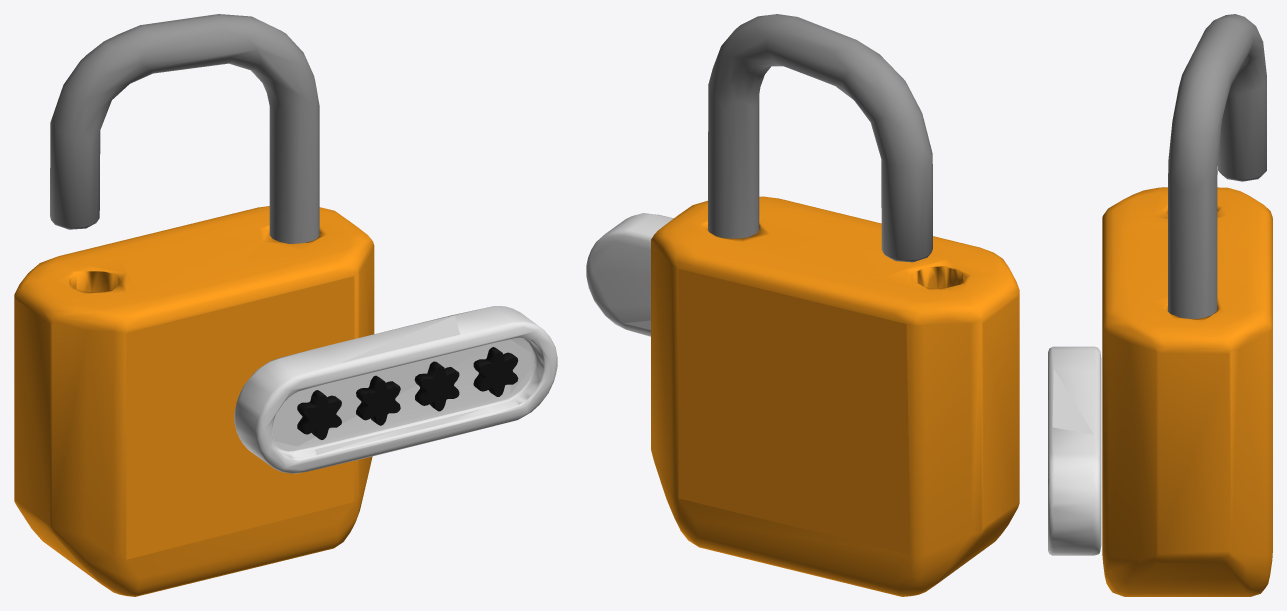
Rendered from Wallet.fbx.
3 views of the same model, side by side, from view 1: azimuth 30°, elevation 25°; view 2: azimuth 150°, elevation 25°; view 3: azimuth 270°, elevation 25° (orthographic). The views are drawn at different scales.
Parts seen in each view (by area): view 1: Cube.048; view 2: Cube.048; view 3: Cube.048.
Boxes of the visible parts, x1,y1,x2,y2 form: Cube.048: (14,14,557,596); Cube.048: (586,14,1019,596); Cube.048: (1048,14,1272,596).
Size of the model in its own units: 23.54 by 25.55 by 10.15.
